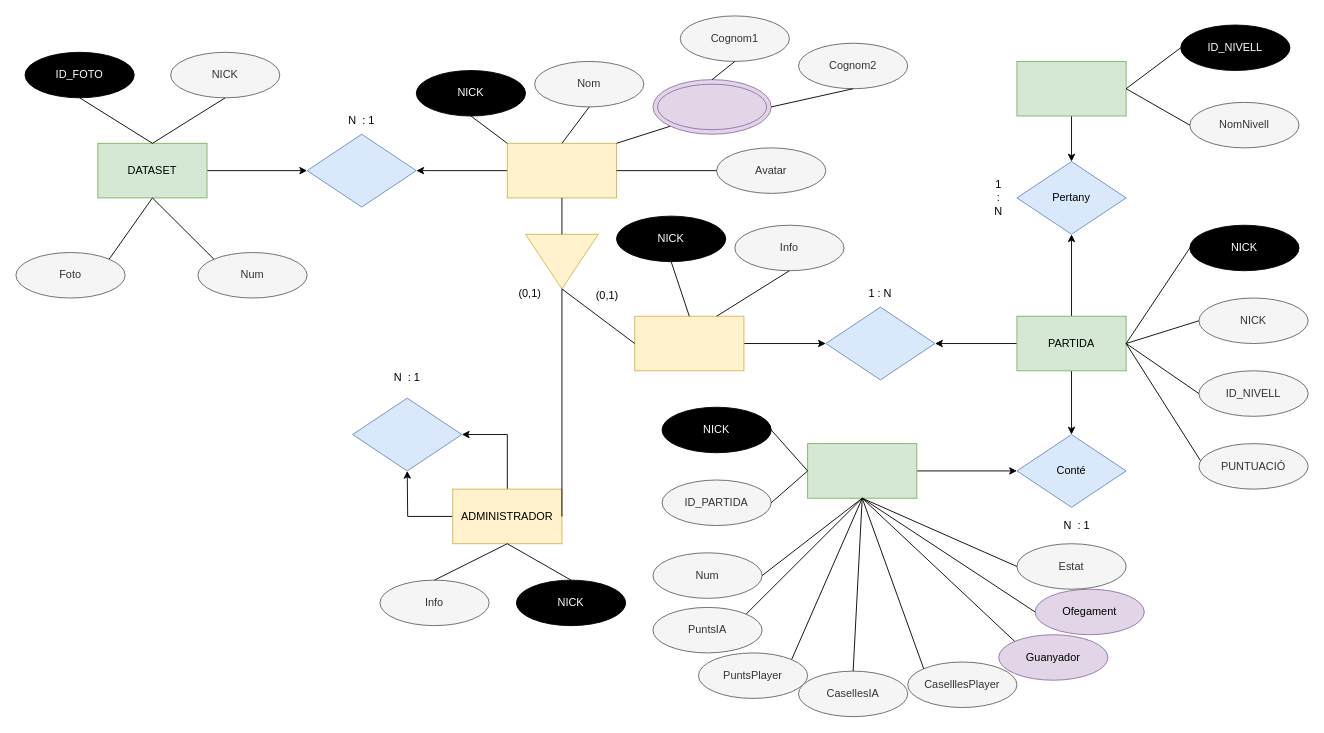
Some shapes in this 1324 by 733 pixel diagram are drawn without their labels. Each missing label, with the centre of its shape:
Asocciat: the point at 361,170
Cognoms: the point at 712,106
ES: the point at 561,261
Juga: the point at 880,343
MOVIMENTS: the point at 862,470
NIVELLS: the point at 1071,88
PLAYER: the point at 689,343
Supervisa: the point at 407,434
USUARI: the point at 561,170
